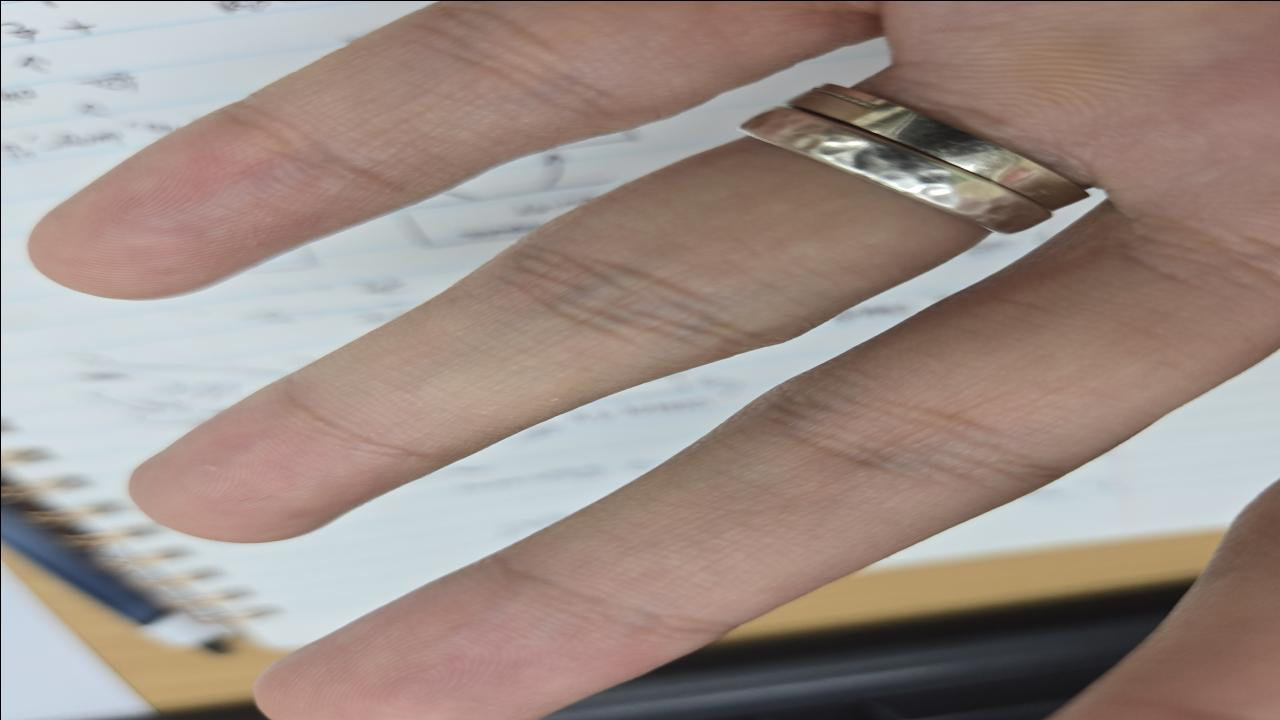ring: (741, 80, 1091, 234)
